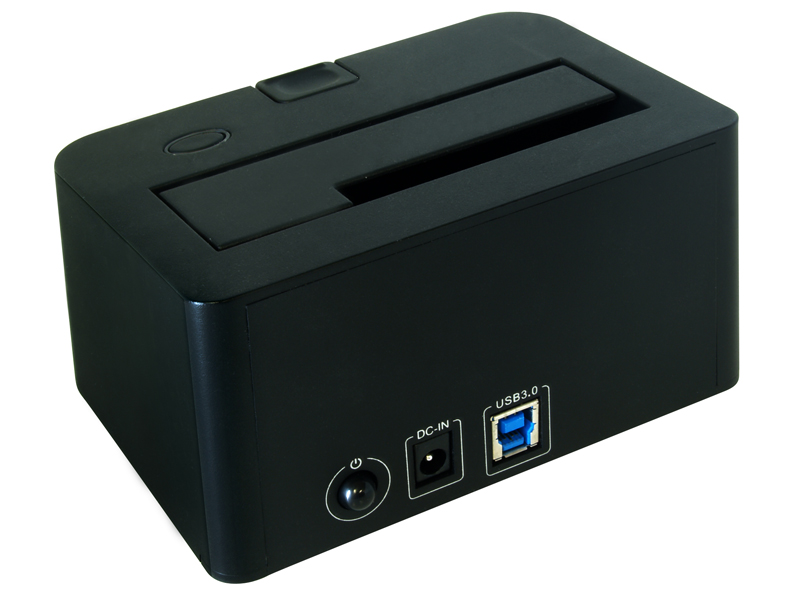HDD Docking Station: (45, 11, 756, 585)
